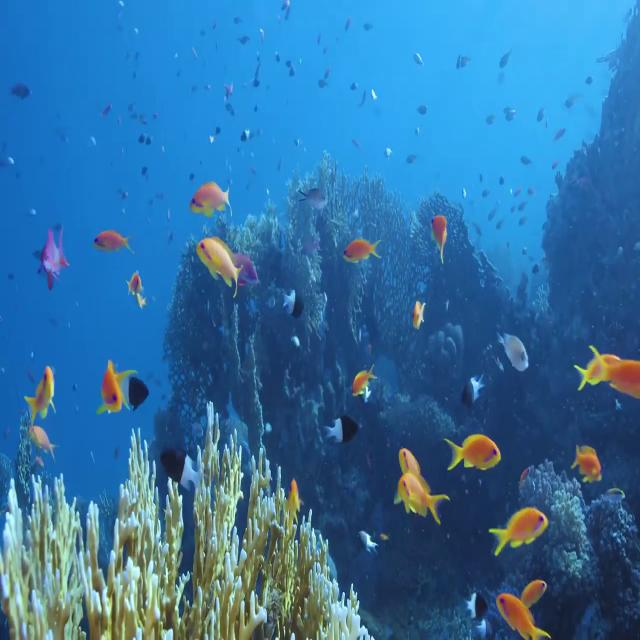fish: (441, 428, 504, 475), (490, 508, 549, 554), (579, 346, 624, 404), (194, 232, 240, 288), (397, 486, 448, 530), (493, 322, 532, 374), (190, 175, 235, 219), (100, 357, 130, 417), (321, 411, 363, 452), (342, 235, 382, 267)
